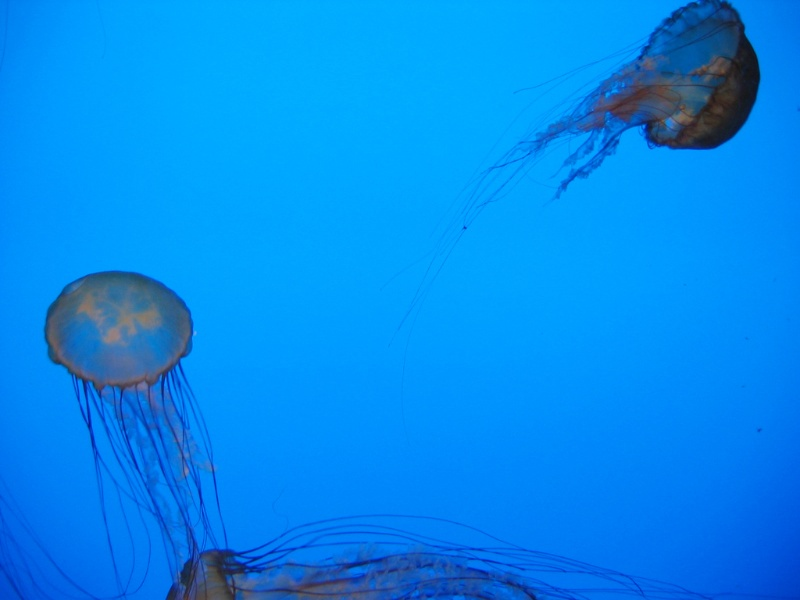Jellyfish: (380, 0, 762, 384), (0, 269, 236, 591), (162, 510, 734, 599)
